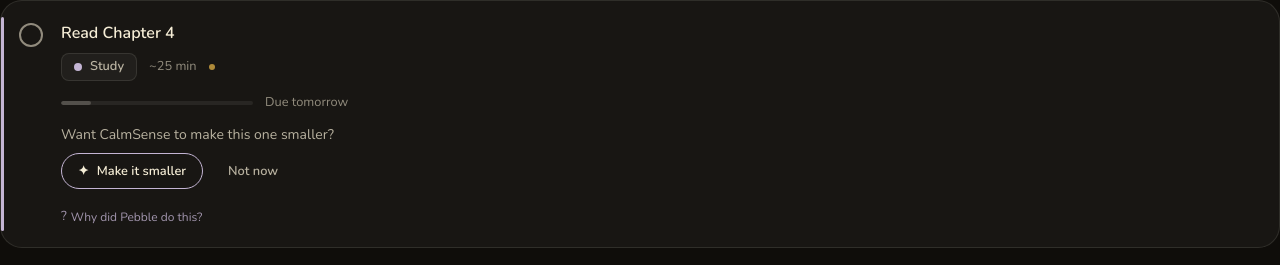
TaskCard › time left (8.3) › lets the offer go with "Not now", and "Break it down" stays
Step 1. Click the button "Not now" → (253, 171), box [211, 153, 295, 189]
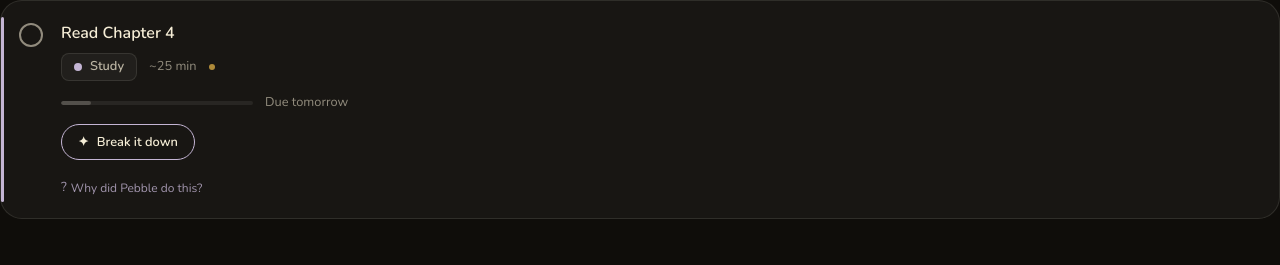
Expected: the button "Make it smaller" is gone
Expected: the button named "Break down \"Read Chapter 4\" into steps" is shown, [61, 124, 195, 160]
